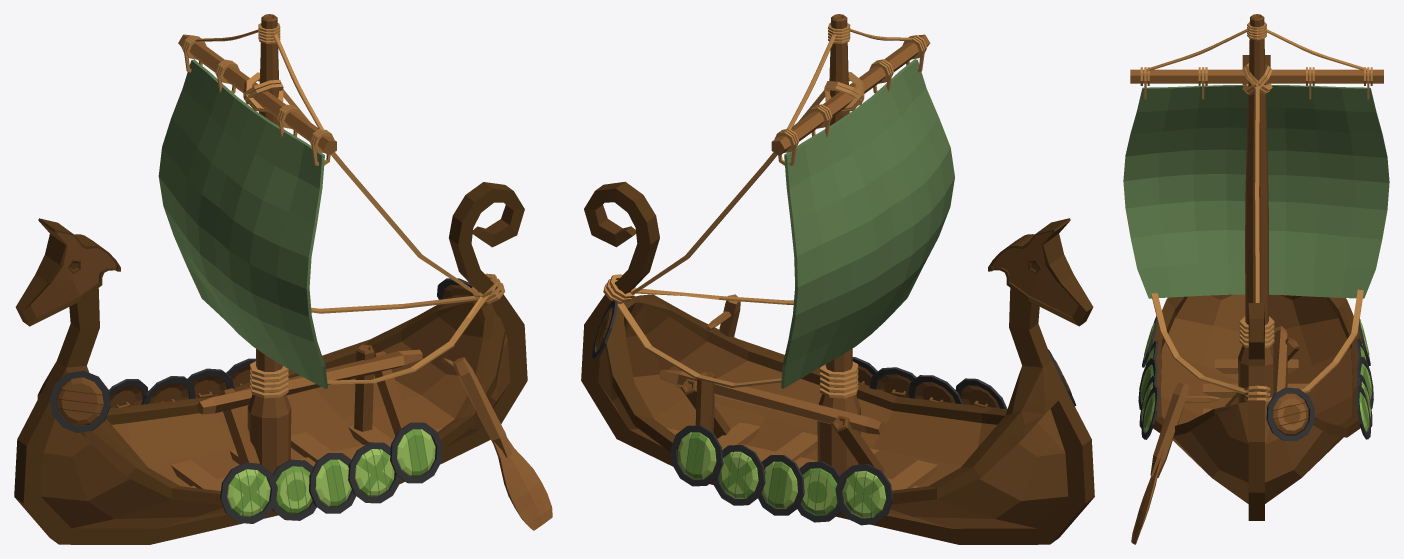
The model's file is D_Galley_Green.fbx.
3 views of the same model, side by side, from view 1: azimuth 30°, elevation 25°; view 2: azimuth 150°, elevation 25°; view 3: azimuth 270°, elevation 25° (orthographic). The views are drawn at different scales.
Parts seen in each view (by area): view 1: D_Galley_Green, D_Galley_Sail_Green, D_Knarr_A_Oar.001; view 2: D_Galley_Green, D_Galley_Sail_Green, D_Knarr_A_Oar.001; view 3: D_Galley_Green, D_Galley_Sail_Green, D_Knarr_A_Oar.001.
Part boxes in pixels (box(x1,y1,x2,y2)): D_Galley_Green: box(14, 14, 527, 544); D_Galley_Sail_Green: box(158, 59, 327, 388); D_Knarr_A_Oar.001: box(441, 357, 552, 530); D_Galley_Green: box(581, 14, 1094, 544); D_Galley_Sail_Green: box(781, 59, 954, 388); D_Knarr_A_Oar.001: box(706, 294, 740, 336); D_Galley_Green: box(1130, 14, 1383, 520); D_Galley_Sail_Green: box(1123, 85, 1389, 298); D_Knarr_A_Oar.001: box(1131, 382, 1219, 544).
Size of the model in its own units: 1047 by 1009 by 549.
